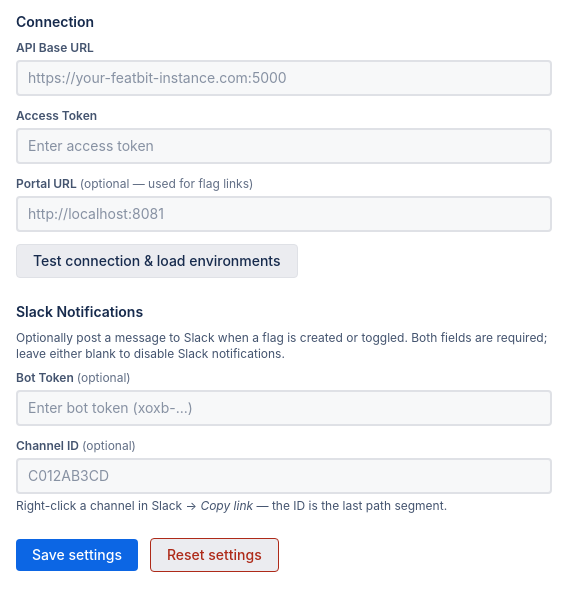
Settings › shows an error when Save is clicked without an API URL
The width and height of the screenshot is (569, 609).
Click the button "Save settings" at coordinates (77, 555), box [16,539,138,571]
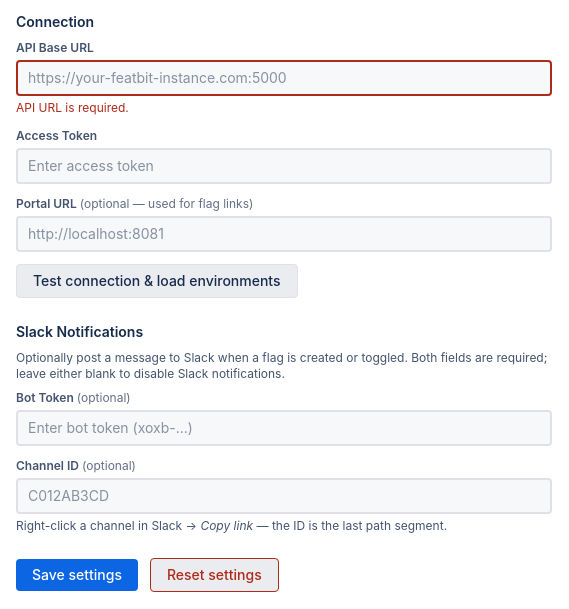
Check: the text "API URL is required" is shown, box [16,100,129,115]
